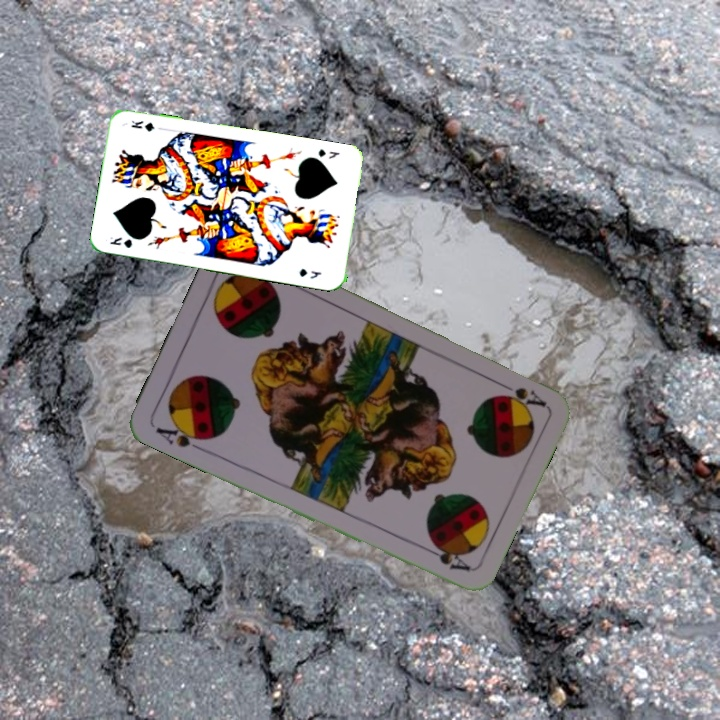GK: (106, 233, 135, 250), (314, 145, 342, 161)
SA: (151, 418, 211, 454), (492, 377, 549, 410)
